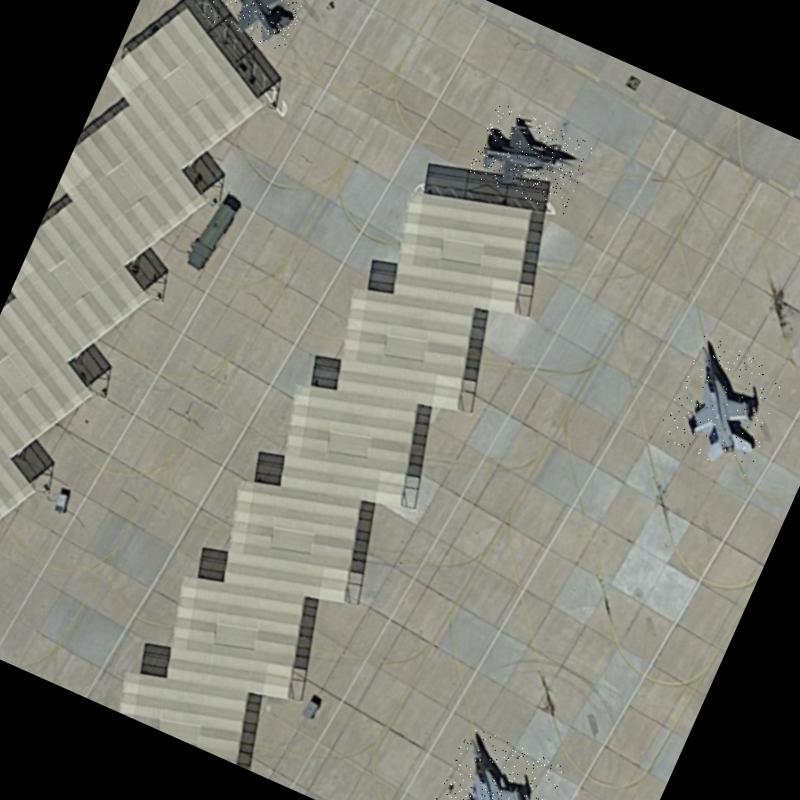A16: (654, 332, 793, 478), (426, 724, 566, 800)
A5: (466, 102, 596, 216), (199, 0, 313, 54)
